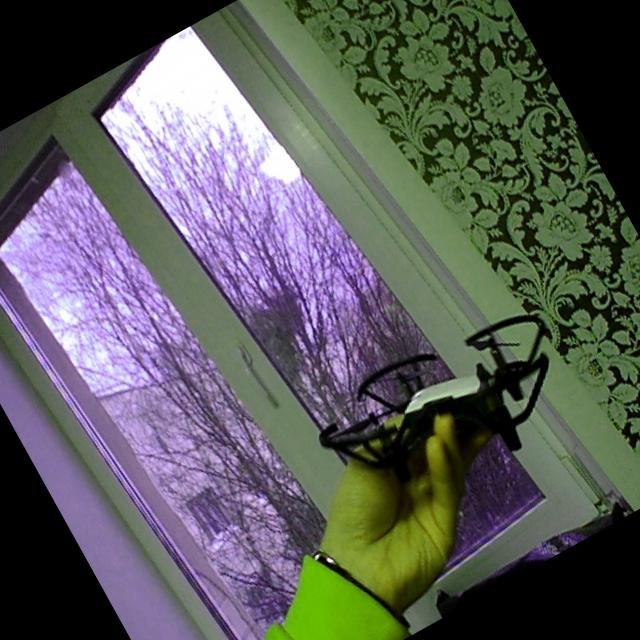drone: (296, 270, 604, 544)
